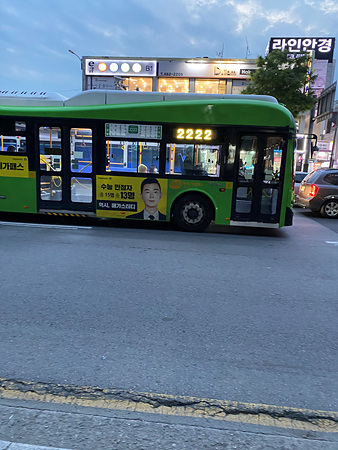entrance: (232, 124, 282, 220)
